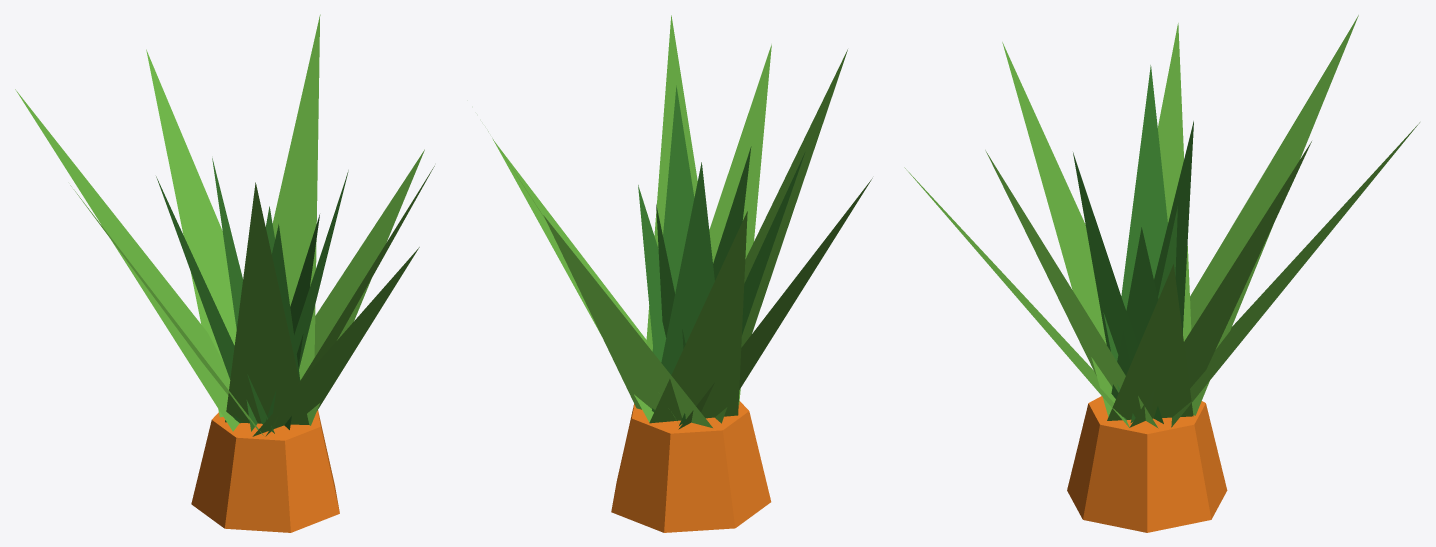
File: carrot_4.obj
3 renders of one model, left to right at view 1: azimuth 30°, elevation 25°; view 2: azimuth 150°, elevation 25°; view 3: azimuth 270°, elevation 25°, orthographic. The views are drawn at different scales.
Visible parts, largest first — view 1: plant; view 2: plant; view 3: plant.
Part boxes in pixels (x1=…): plant: x1=15, y1=14, x2=434, y2=532; plant: x1=488, y1=15, x2=872, y2=532; plant: x1=904, y1=15, x2=1419, y2=532.
Bounding box in the file's own units: 0.3998 × 0.4285 × 0.4734.
